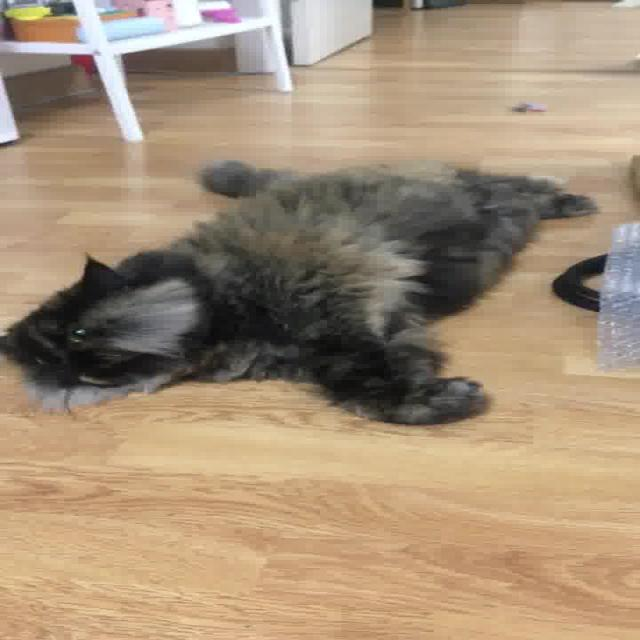cat: (0, 151, 606, 428)
